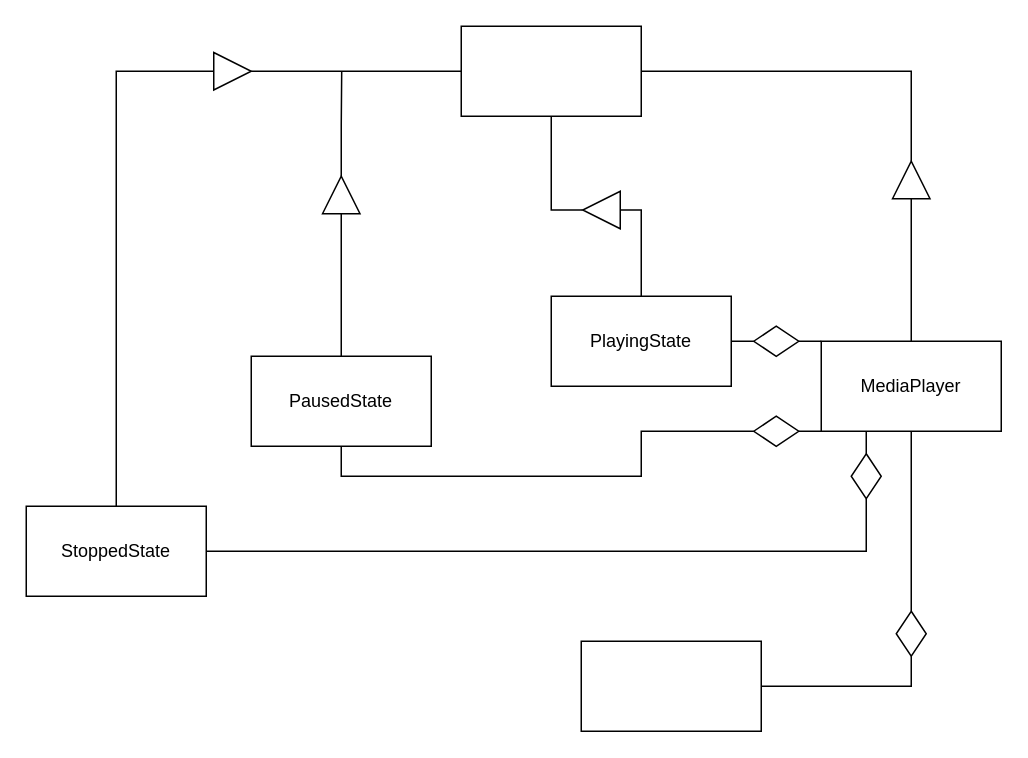
Image size: 1028x758. Some labels were removed from this diagram. The centre of each missing label's shape, as x and y in pixels:
"MediaPlayerTest" goes at [670,685].
"PlayerState" goes at [550,70].
